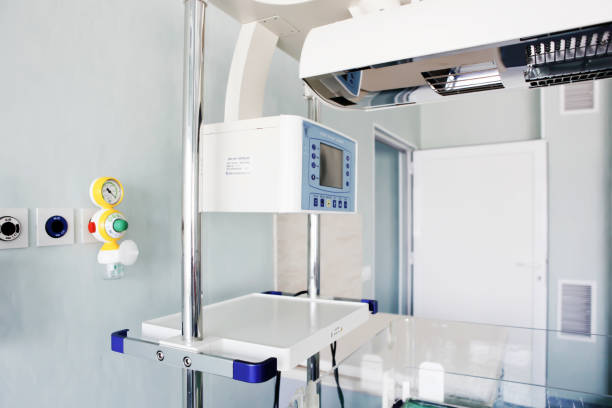bedside_monitor: (308, 133, 359, 213)
door_handle: (505, 257, 546, 275)
